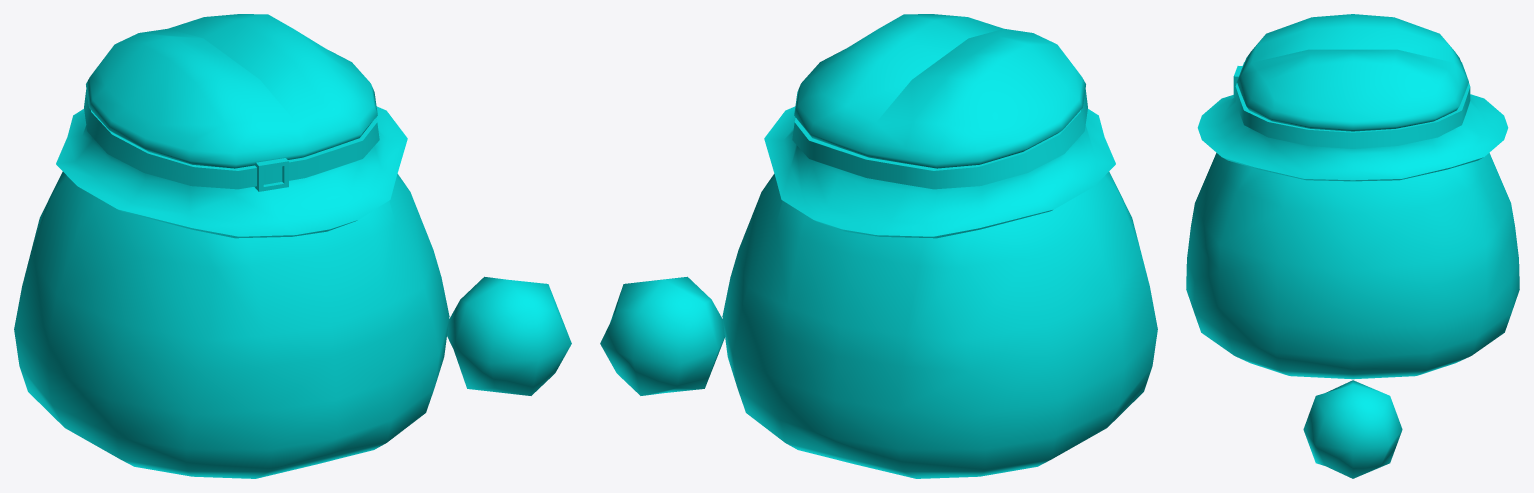
The model's file is m_player.fbx.
3 views of the same model, side by side, from view 1: azimuth 30°, elevation 25°; view 2: azimuth 150°, elevation 25°; view 3: azimuth 270°, elevation 25° (orthographic). The views are drawn at different scales.
Visible parts, largest first — view 1: m_player, m_playerhat, m_playerprojectile; view 2: m_player, m_playerhat, m_playerprojectile; view 3: m_player, m_playerhat, m_playerprojectile.
Boxes of the visible parts, x1,y1,x2,y2 form: m_player: (14,171,449,478); m_playerhat: (56,14,407,238); m_playerprojectile: (447,276,571,395); m_player: (722,171,1157,478); m_playerhat: (764,14,1115,238); m_playerprojectile: (600,276,724,395); m_player: (1186,153,1519,379); m_playerhat: (1197,14,1508,181); m_playerprojectile: (1303,380,1402,478).
Bounding box in the file's own units: 1.86 × 1.44 × 1.32.
